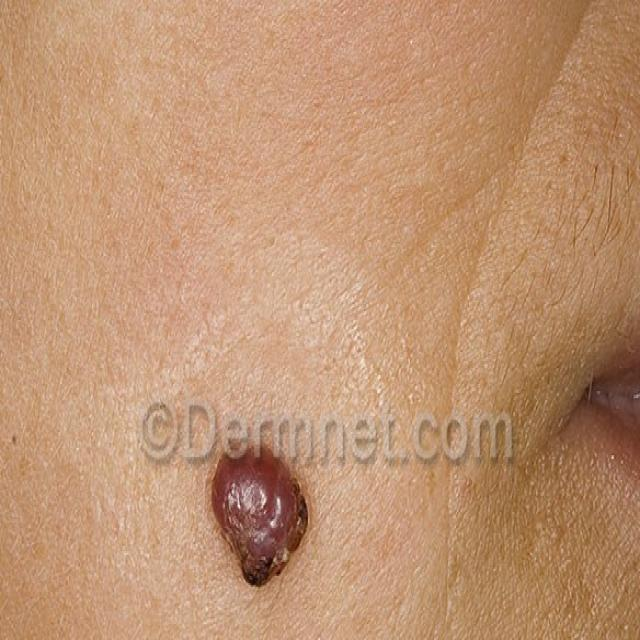Vascular Tumors: (198, 429, 327, 582)
